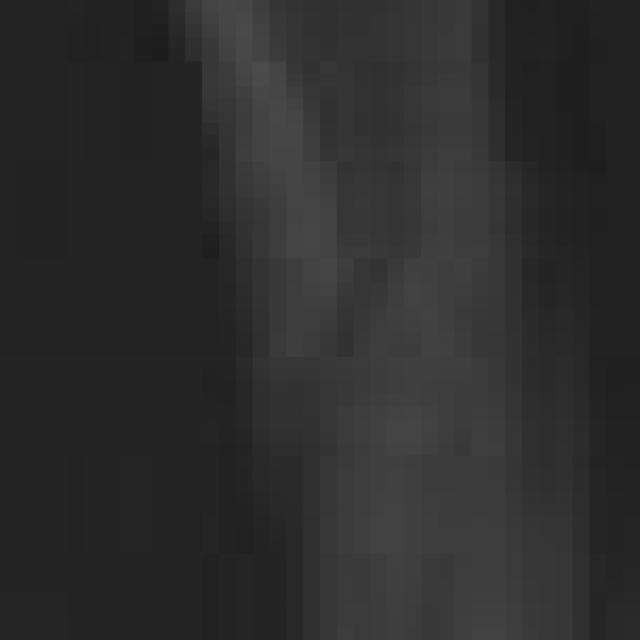fracture: (3, 0, 640, 639)
